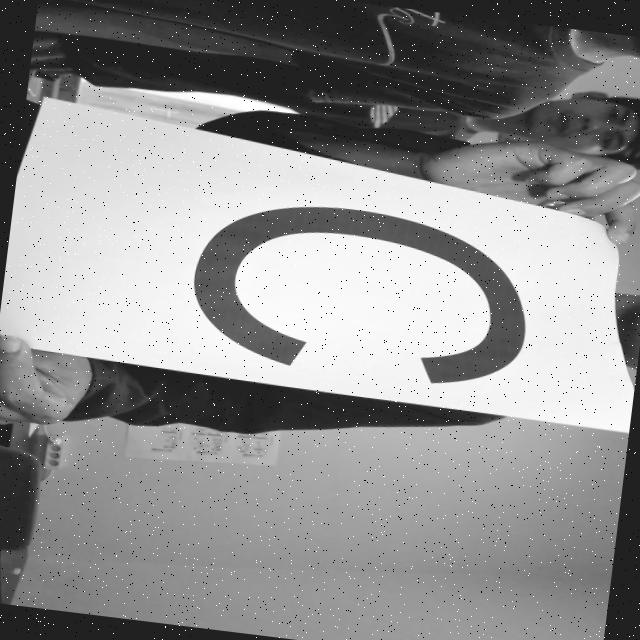c: (175, 182, 560, 403)
